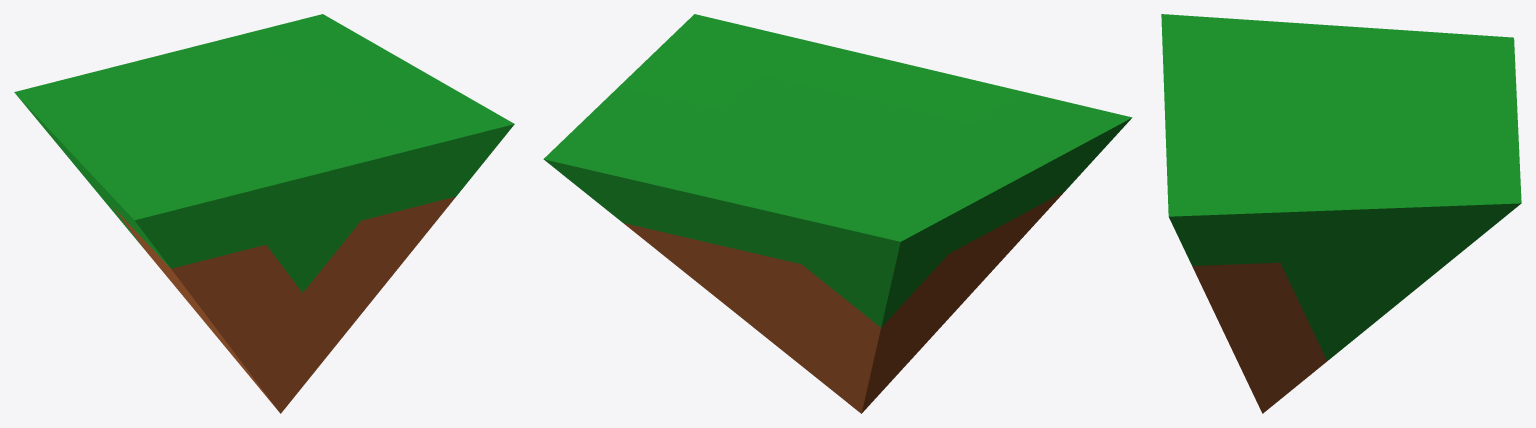
The model's file is Platform02.fbx.
3 renders of one model, left to right at view 1: azimuth 30°, elevation 25°; view 2: azimuth 150°, elevation 25°; view 3: azimuth 270°, elevation 25°, orthographic. The views are drawn at different scales.
Parts seen in each view (by area): view 1: Cone; view 2: Cone; view 3: Cone.
Boxes of the visible parts, x1,y1,x2,y2 form: Cone: (14,14,514,413); Cone: (543,14,1132,413); Cone: (1161,14,1521,413).
Size of the model in its own units: 251 by 172 by 188.
